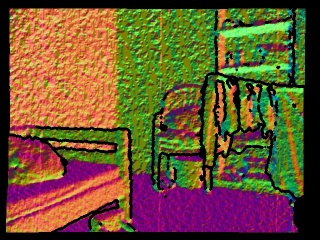station: (89, 207, 138, 234)
